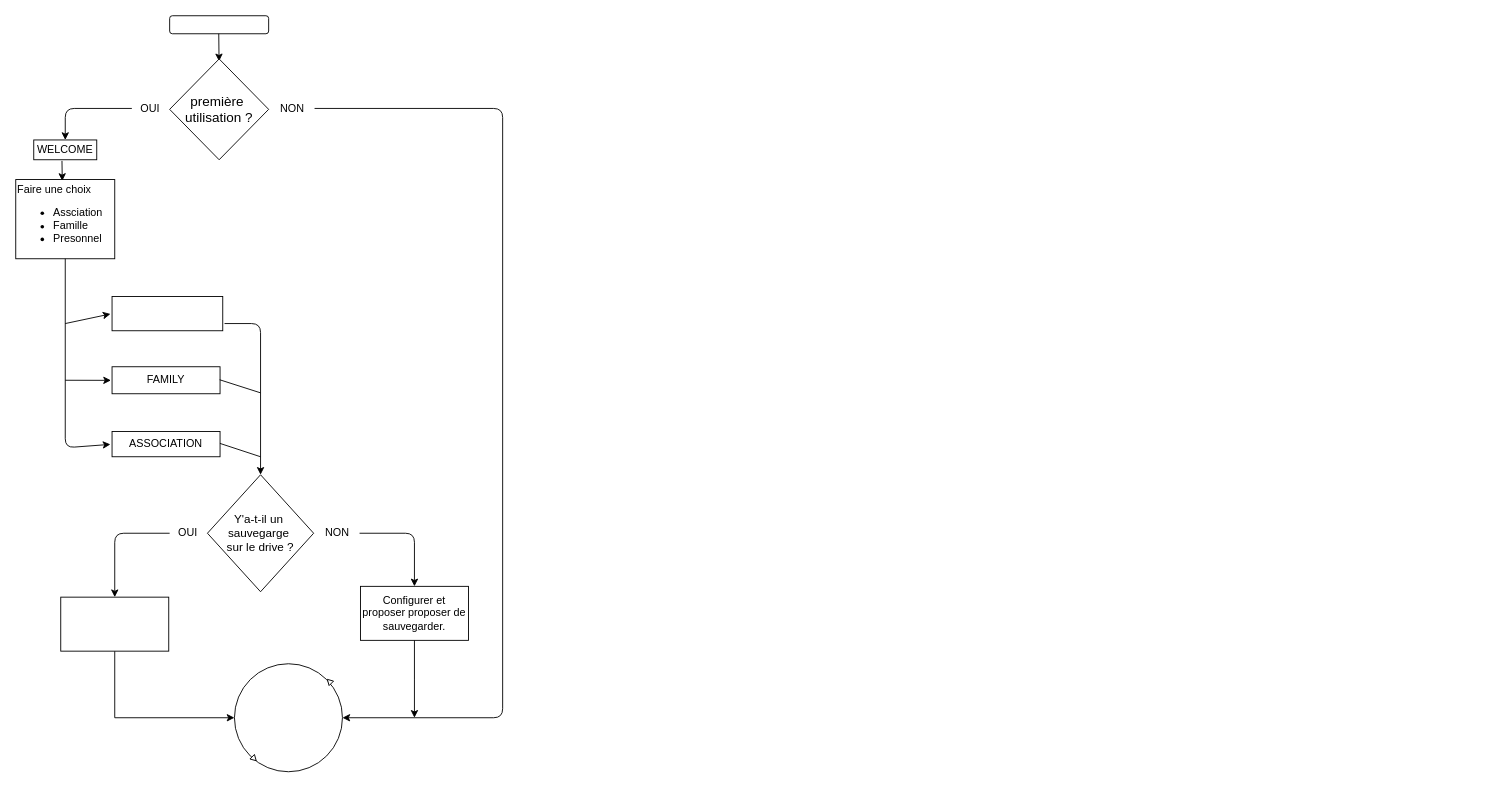
Some shapes in this 1499 by 788 pixel diagram are drawn without their labels. The centre of each missing label's shape, as x and y in pixels:
DEBUT: point (219, 24)
PERSONAL: point (167, 313)
Proposer de le télécharger: point (114, 623)
